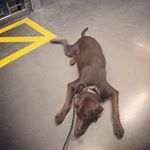puppy: (47, 23, 128, 142)
